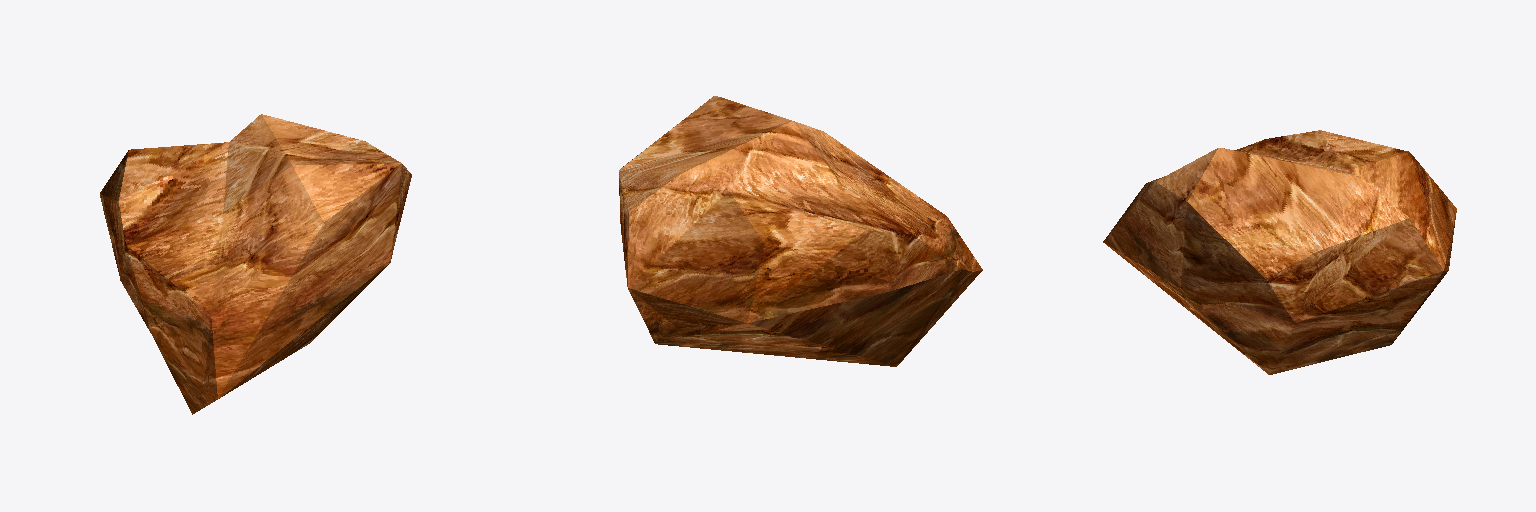
The picture shows the model from 3 angles: view 1: azimuth 30°, elevation 25°; view 2: azimuth 150°, elevation 25°; view 3: azimuth 270°, elevation 25°; orthographic projection.
Visible parts, largest first — view 1: object 1; view 2: object 1; view 3: object 1.
Boxes of the visible parts, x1,y1,x2,y2 form: object 1: [100, 114, 411, 414]; object 1: [619, 96, 982, 366]; object 1: [1103, 130, 1456, 374].
Size of the model in its own units: 5.73 by 4.1 by 5.9.
1 materials, 1 textured.